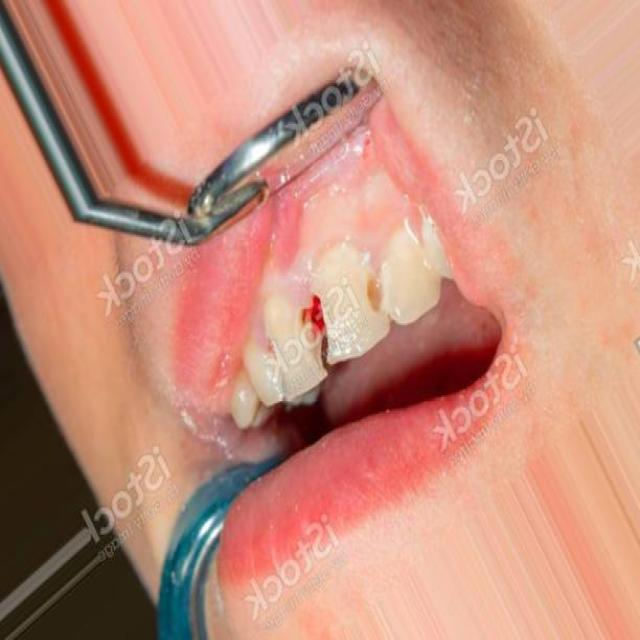caries: (288, 284, 343, 360), (354, 258, 402, 330)
